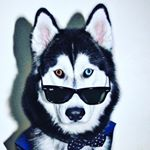puppy: (26, 3, 121, 147)
